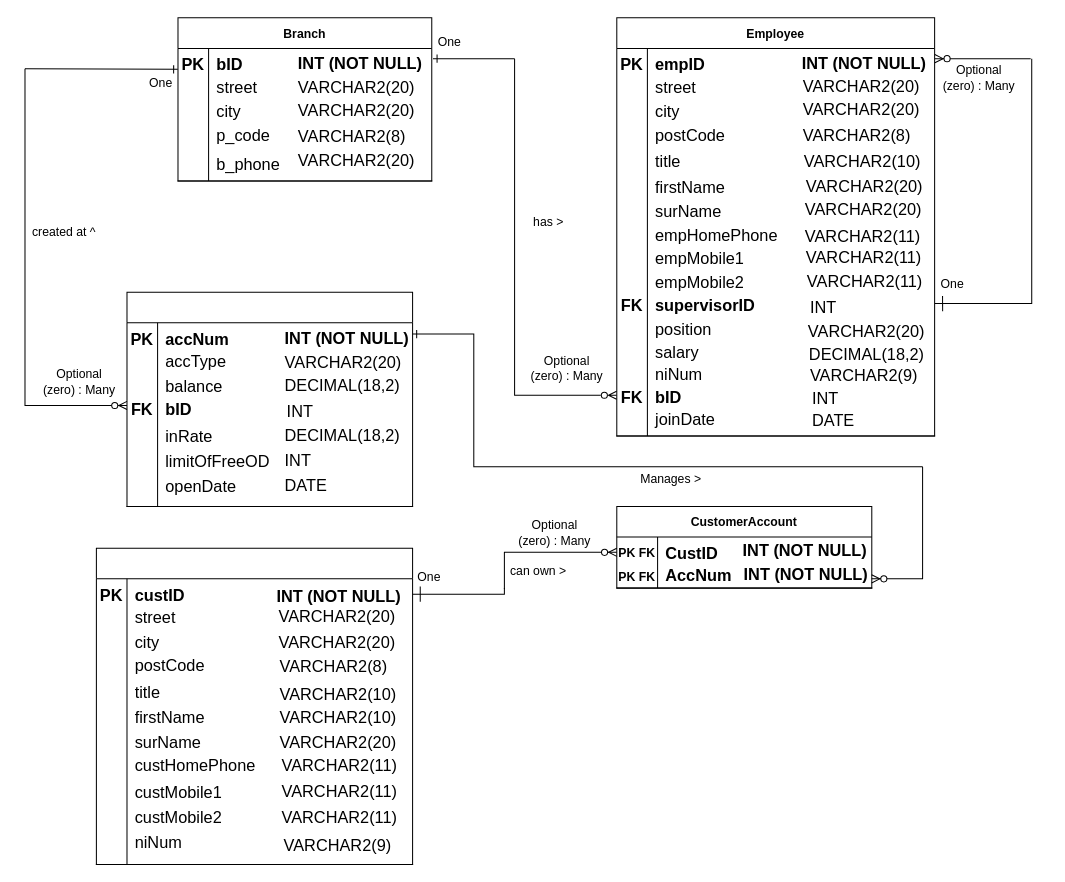
This 1065x882 diagram has some shape labels left out. The box of each missing label's shape, as (x1, y1, x2, y2) in pixels:
Account: (126, 291, 413, 506)
Customer: (95, 547, 413, 864)
